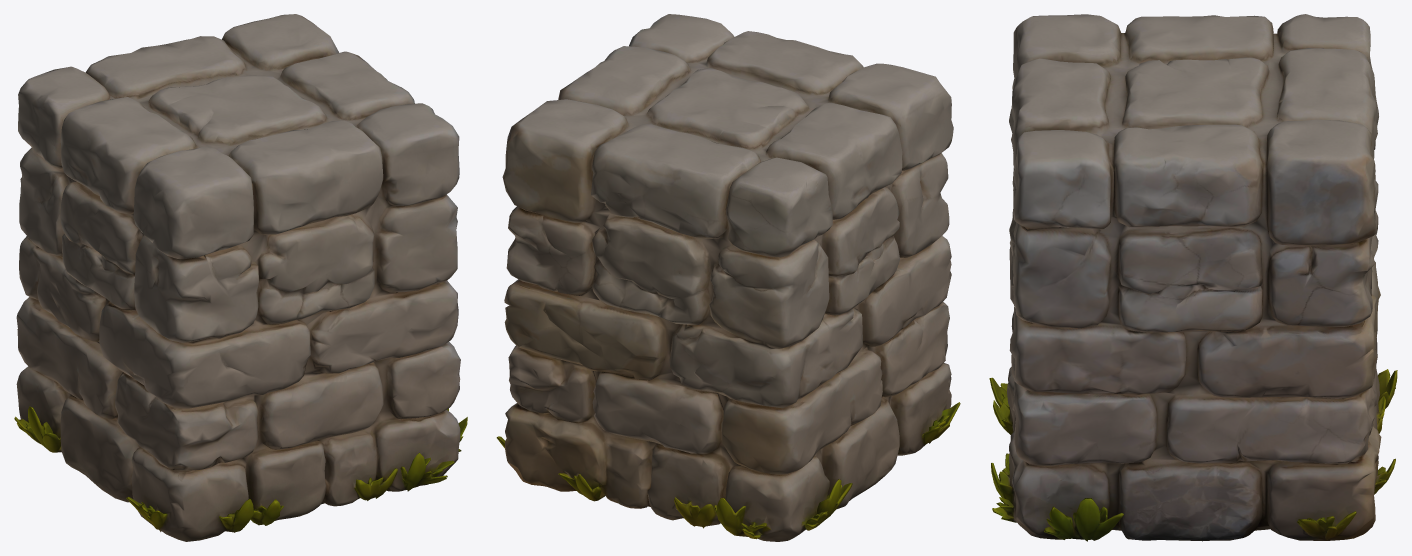
The model's file is stone+block+wall+3d+model.glb.
3 views of the same model, side by side, from view 1: azimuth 30°, elevation 25°; view 2: azimuth 150°, elevation 25°; view 3: azimuth 270°, elevation 25° (orthographic). The views are drawn at different scales.
Parts seen in each view (by area): view 1: tripo_node_46da4b2c-d3bb-4b93-bdec-4ebf6663f43a; view 2: tripo_node_46da4b2c-d3bb-4b93-bdec-4ebf6663f43a; view 3: tripo_node_46da4b2c-d3bb-4b93-bdec-4ebf6663f43a.
Part boxes in pixels (<box>): tripo_node_46da4b2c-d3bb-4b93-bdec-4ebf6663f43a: <box>14,14,467,541</box>; tripo_node_46da4b2c-d3bb-4b93-bdec-4ebf6663f43a: <box>496,14,960,541</box>; tripo_node_46da4b2c-d3bb-4b93-bdec-4ebf6663f43a: <box>989,14,1397,541</box>.
Bounding box in the file's own units: 0.9516 × 1 × 0.9517.
Materials: 1 (1 with a texture image).
